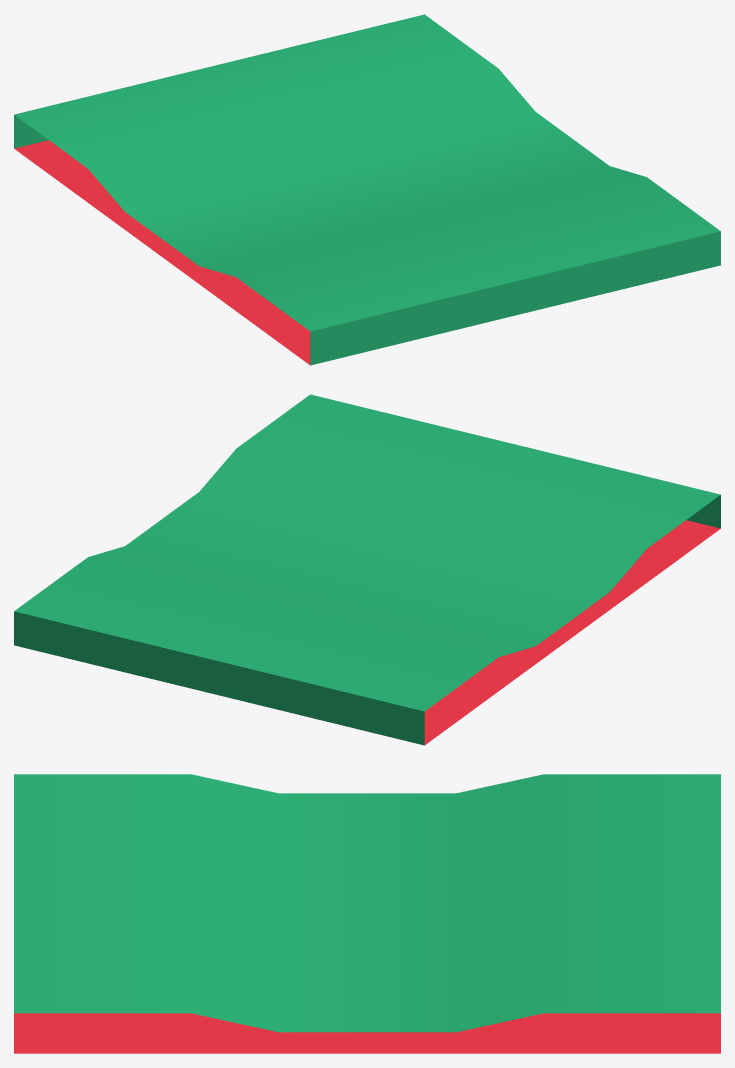
The model's file is crest base.FBX.
The picture shows the model from 3 angles, top to bottom: view 1: azimuth 30°, elevation 25°; view 2: azimuth 150°, elevation 25°; view 3: azimuth 270°, elevation 25°; orthographic projection. The views are drawn at different scales.
Visible parts, largest first — view 1: crest; view 2: crest; view 3: crest.
Boxes of the visible parts, left/top/right/bottom form: crest: left=14, top=14, right=720, bottom=365; crest: left=14, top=394, right=720, bottom=745; crest: left=14, top=774, right=720, bottom=1053.
Bounding box in the file's own units: 79.99 × 6.33 × 99.99.
